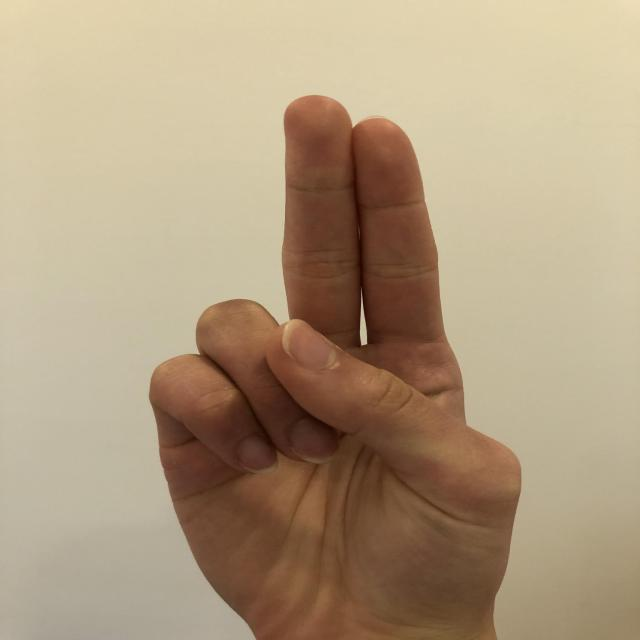U: (132, 85, 550, 620)
